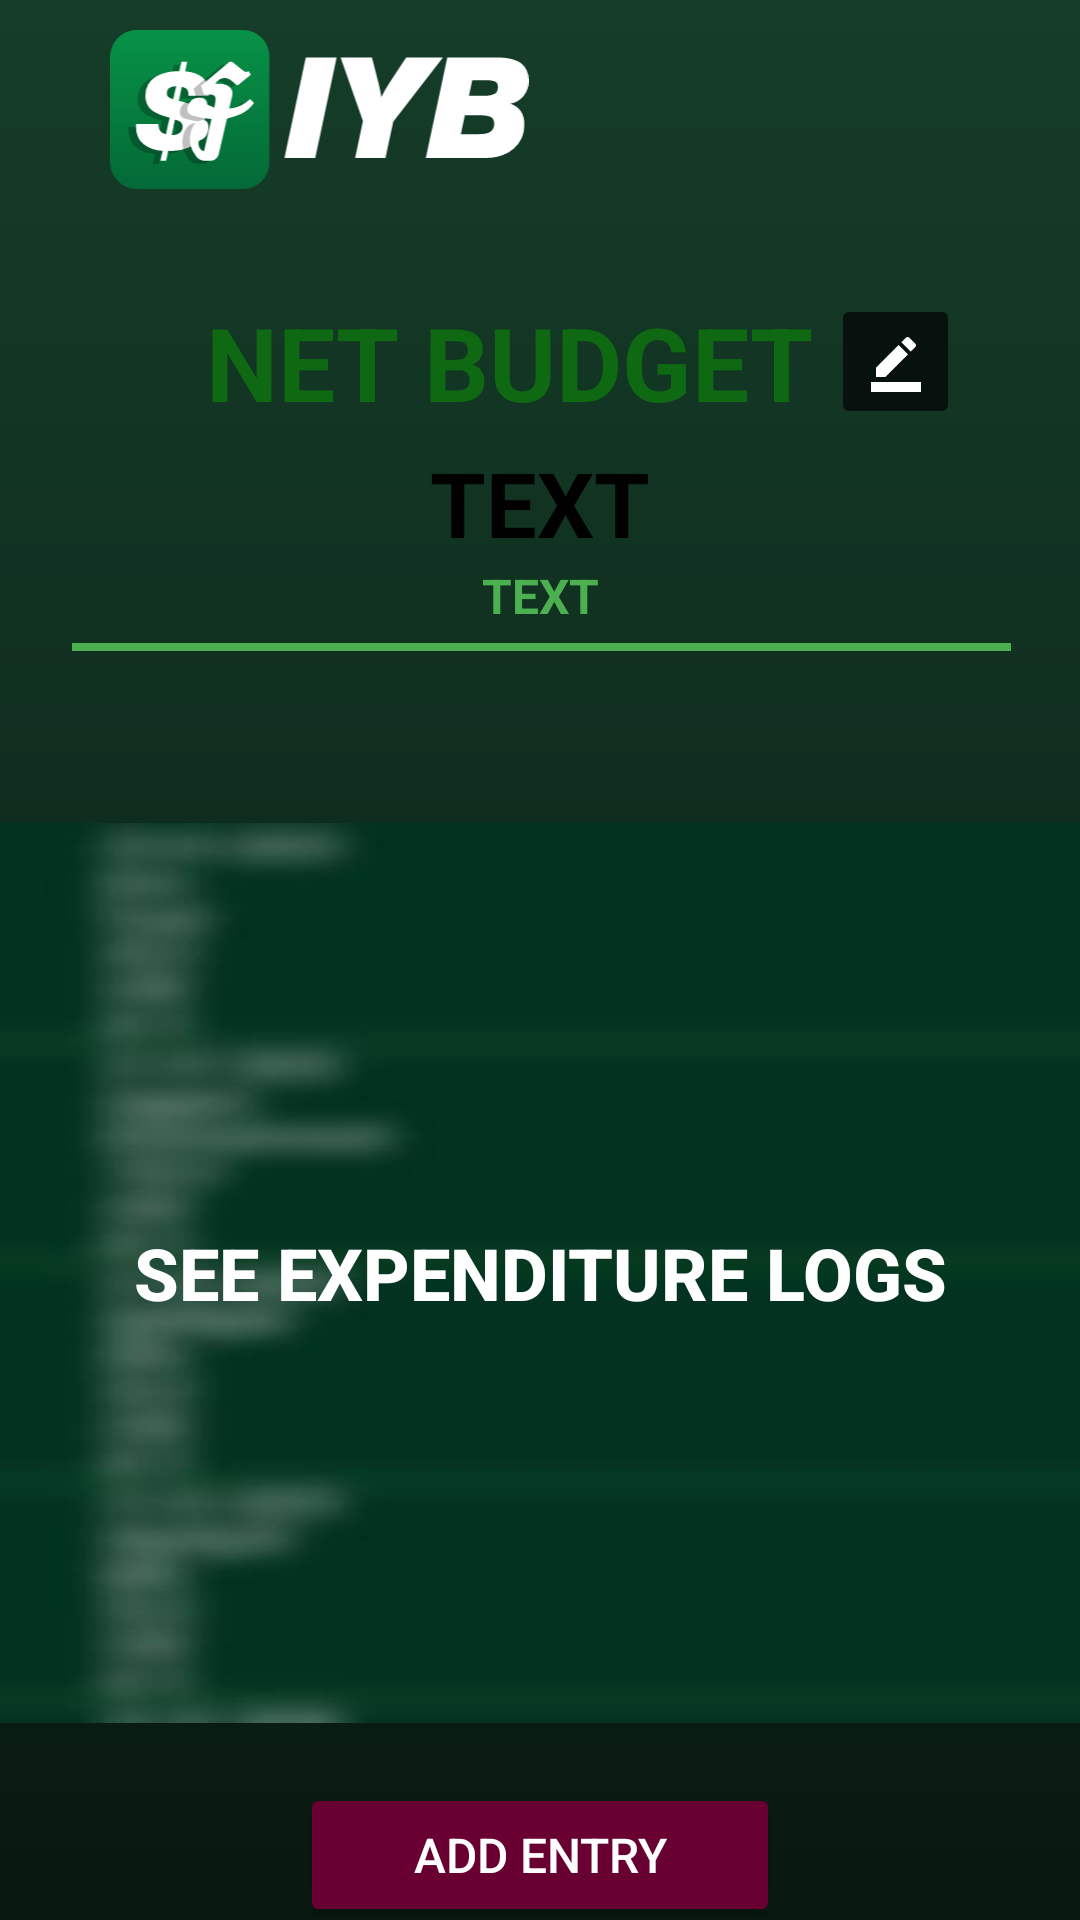

Locate icon controls on the screen. Image size 1080 x 1920, boxes as (x1, y1, x2, y2).
edit symbol: (843, 312, 948, 411)
